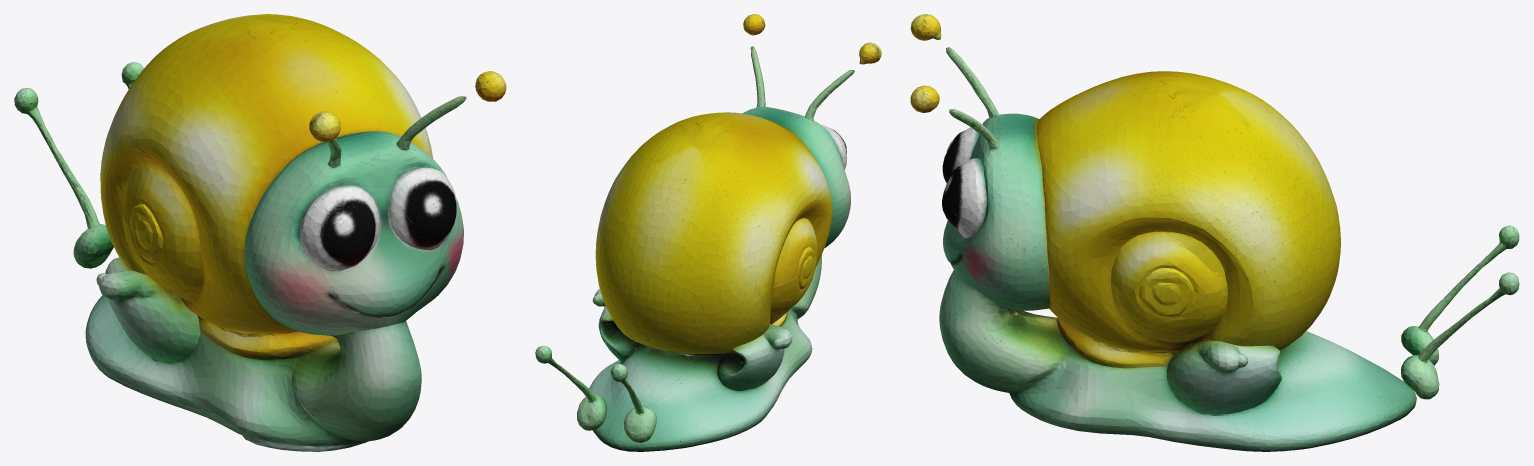
The model's file is golden snail.glb.
The picture shows the model from 3 angles, left to right: view 1: azimuth 30°, elevation 25°; view 2: azimuth 150°, elevation 25°; view 3: azimuth 270°, elevation 25°; orthographic projection. The views are drawn at different scales.
Parts seen in each view (by area): view 1: world; view 2: world; view 3: world.
Part boxes in pixels (x1,y1,x2,y2): world: [14, 14, 506, 451]; world: [535, 14, 881, 451]; world: [910, 14, 1519, 451].
Bounding box in the file's own units: 0.4674 × 0.6424 × 1.
Materials: 1 (1 with a texture image).
